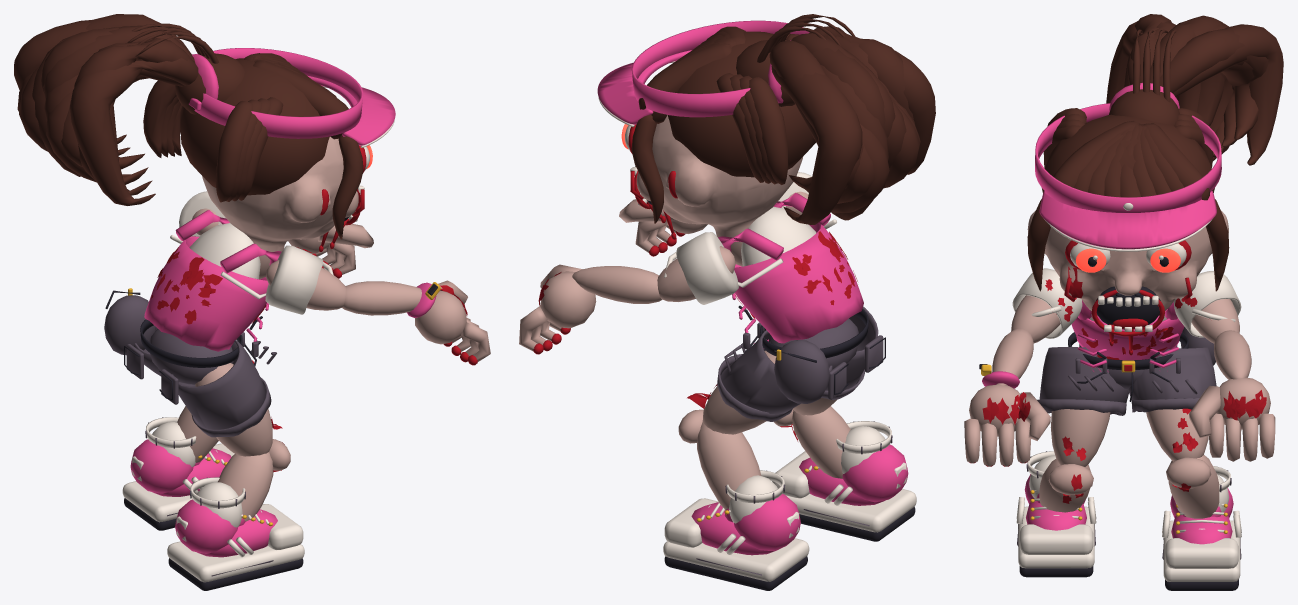
3 views of the same model, side by side, from view 1: azimuth 30°, elevation 25°; view 2: azimuth 150°, elevation 25°; view 3: azimuth 270°, elevation 25° (orthographic). The views are drawn at different scales.
Visible parts, largest first — view 1: head__pal_woodWarm, torso__pal_survivorRed, head__pal_survivorRed, head__pal_infectedSkin, footR__pal_picketWhite, legR__pal_asphalt, hip__pal_asphalt, footR__pal_survivorRed, footL__pal_picketWhite, footL__pal_survivorRed, handR__pal_infectedSkin, armR__pal_picketWhite (+12 smaller); view 2: head__pal_woodWarm, torso__pal_survivorRed, head__pal_infectedSkin, head__pal_survivorRed, footL__pal_picketWhite, footR__pal_picketWhite, hip__pal_asphalt, legL__pal_asphalt, footL__pal_survivorRed, shinL__pal_infectedSkin, footR__pal_survivorRed, handL__pal_infectedSkin (+13 smaller); view 3: head__pal_woodWarm, head__pal_survivorRed, head__pal_infectedSkin, handL__pal_infectedSkin, footR__pal_picketWhite, handR__pal_infectedSkin, footL__pal_picketWhite, legR__pal_asphalt, legL__pal_asphalt, torso__pal_survivorRed, shinL__pal_infectedSkin, legR__pal_infectedSkin (+22 smaller).
Part boxes in pixels (bbox=[...]): head__pal_woodWarm: bbox=[14, 14, 363, 239]; torso__pal_survivorRed: bbox=[144, 210, 281, 351]; head__pal_survivorRed: bbox=[189, 48, 395, 145]; head__pal_infectedSkin: bbox=[202, 136, 358, 279]; footR__pal_picketWhite: bbox=[167, 477, 304, 582]; legR__pal_asphalt: bbox=[172, 340, 276, 437]; hip__pal_asphalt: bbox=[104, 295, 258, 404]; footR__pal_survivorRed: bbox=[175, 499, 277, 557]; footL__pal_picketWhite: bbox=[122, 417, 234, 522]; footL__pal_survivorRed: bbox=[130, 439, 231, 496]; handR__pal_infectedSkin: bbox=[415, 280, 490, 361]; armR__pal_picketWhite: bbox=[265, 245, 333, 314]; head__pal_woodWarm: bbox=[631, 14, 935, 224]; torso__pal_survivorRed: bbox=[718, 193, 863, 343]; head__pal_infectedSkin: bbox=[636, 115, 803, 266]; head__pal_survivorRed: bbox=[597, 20, 809, 124]; footL__pal_picketWhite: bbox=[663, 470, 809, 581]; footR__pal_picketWhite: bbox=[772, 421, 916, 532]; hip__pal_asphalt: bbox=[743, 318, 883, 403]; legL__pal_asphalt: bbox=[717, 330, 832, 421]; footL__pal_survivorRed: bbox=[691, 494, 800, 555]; shinL__pal_infectedSkin: bbox=[678, 409, 761, 510]; footR__pal_survivorRed: bbox=[799, 444, 908, 505]; handL__pal_infectedSkin: bbox=[519, 264, 596, 351]; head__pal_woodWarm: bbox=[1027, 14, 1283, 291]; head__pal_survivorRed: bbox=[1035, 82, 1221, 249]; head__pal_infectedSkin: bbox=[1027, 210, 1228, 329]; handL__pal_infectedSkin: bbox=[1189, 377, 1275, 461]; footR__pal_picketWhite: bbox=[1016, 451, 1096, 568]; handR__pal_infectedSkin: bbox=[964, 384, 1050, 466]; footL__pal_picketWhite: bbox=[1162, 466, 1241, 581]; legR__pal_asphalt: bbox=[1037, 347, 1128, 415]; legL__pal_asphalt: bbox=[1128, 347, 1216, 412]; torso__pal_survivorRed: bbox=[1071, 300, 1184, 372]; shinL__pal_infectedSkin: bbox=[1166, 455, 1219, 518]; legR__pal_infectedSkin: bbox=[1050, 409, 1110, 466].
Size of what is drawn, in the model's own units: 1.2 by 1.67 by 0.9553.
